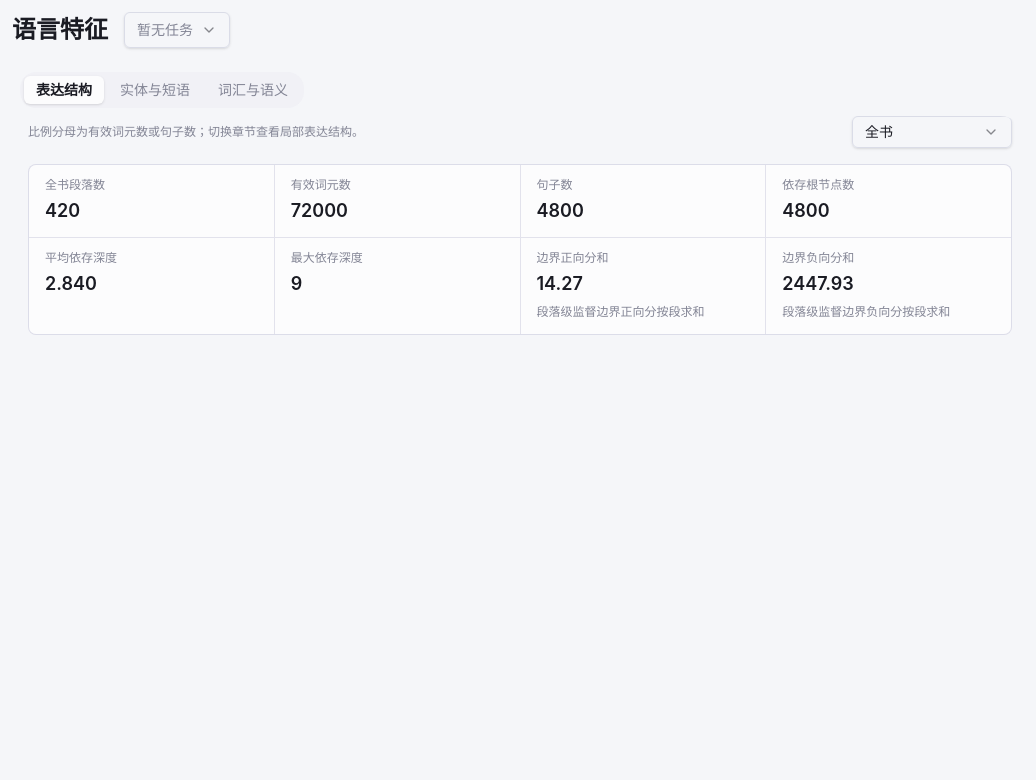
Test: LinguisticPage › 在固定工作区页签间切换，并保留实体和词向量详情
Expected: the tab "表达结构" is shown, 24,76 -> 104,104
Click the tab "实体与短语". click: click(155, 90)
box: 108,76 -> 202,104
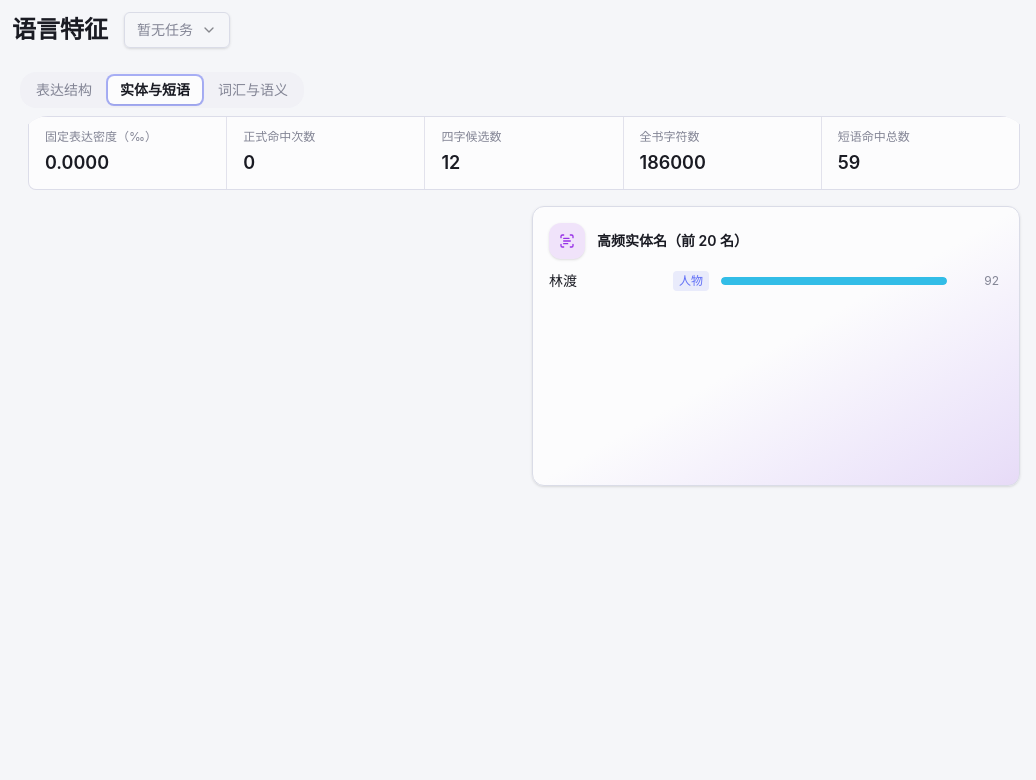
Now the text "高频实体名（前 20 名）" is shown, box 597,231 -> 748,251
Now the text "短语命中总数" is shown, box 838,129 -> 910,144
Click the tab "词汇与语义". click: click(253, 90)
box: 206,76 -> 300,104
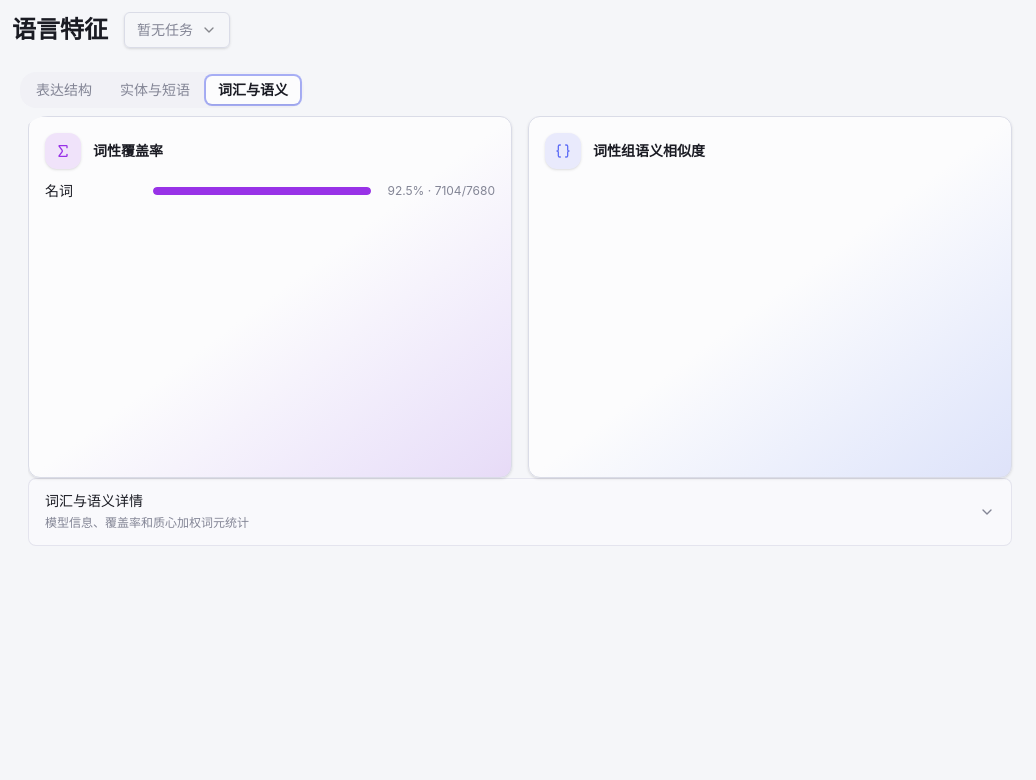
Now the text "92.5% · 7104/7680" is shown, box 383,183 -> 495,199
Now the text "模型信息、覆盖率和质心加权词元统计" is shown, box 45,513 -> 249,533
